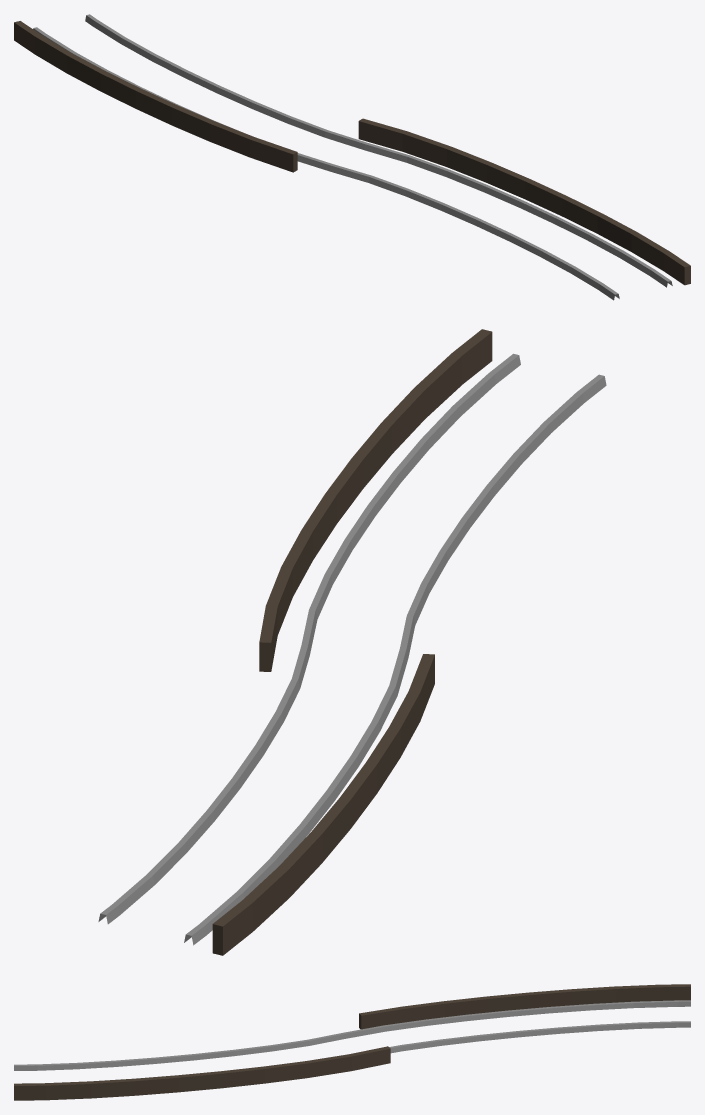
Rendered from SW_ENV_Track_SingleJog_20m_Right-Left_Collision.fbx.
3 views of the same model, one above another, from view 1: azimuth 30°, elevation 25°; view 2: azimuth 150°, elevation 25°; view 3: azimuth 270°, elevation 25° (orthographic). The views are drawn at different scales.
Visible parts, largest first — view 1: SW_ENV_Track_SingleJog_20m_Right-Left_Collision; view 2: SW_ENV_Track_SingleJog_20m_Right-Left_Collision; view 3: SW_ENV_Track_SingleJog_20m_Right-Left_Collision.
Boxes of the visible parts, x1,y1,x2,y2 form: SW_ENV_Track_SingleJog_20m_Right-Left_Collision: [14, 14, 690, 300]; SW_ENV_Track_SingleJog_20m_Right-Left_Collision: [98, 329, 606, 955]; SW_ENV_Track_SingleJog_20m_Right-Left_Collision: [14, 984, 690, 1100].
Size of the model in its own units: 713 by 47.71 by 2000.
